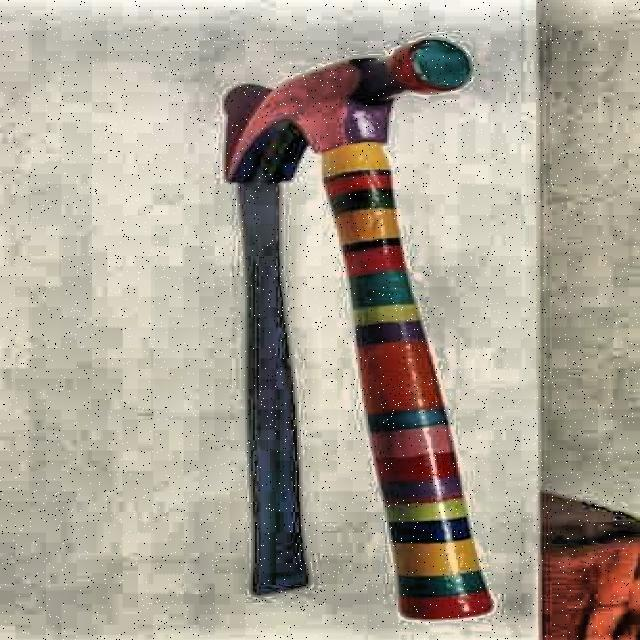hammer: (226, 34, 522, 619)
